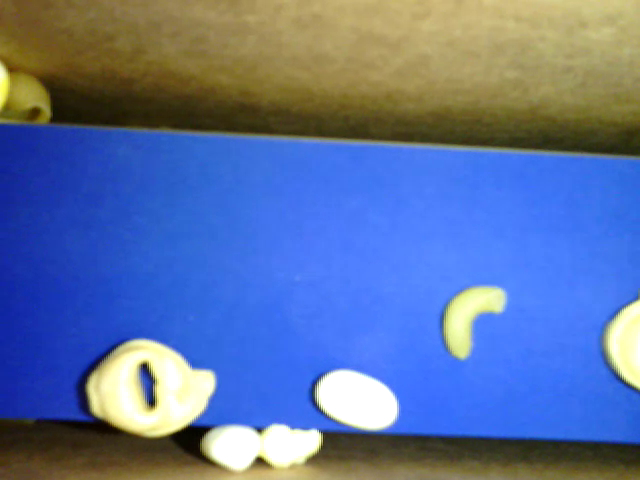elbow: (442, 284, 508, 362)
shell: (3, 69, 54, 127)
tortellini: (77, 337, 219, 436)
